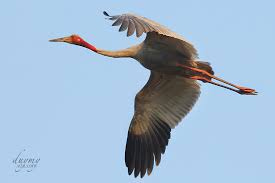seu_dau_do: (47, 8, 257, 178)
